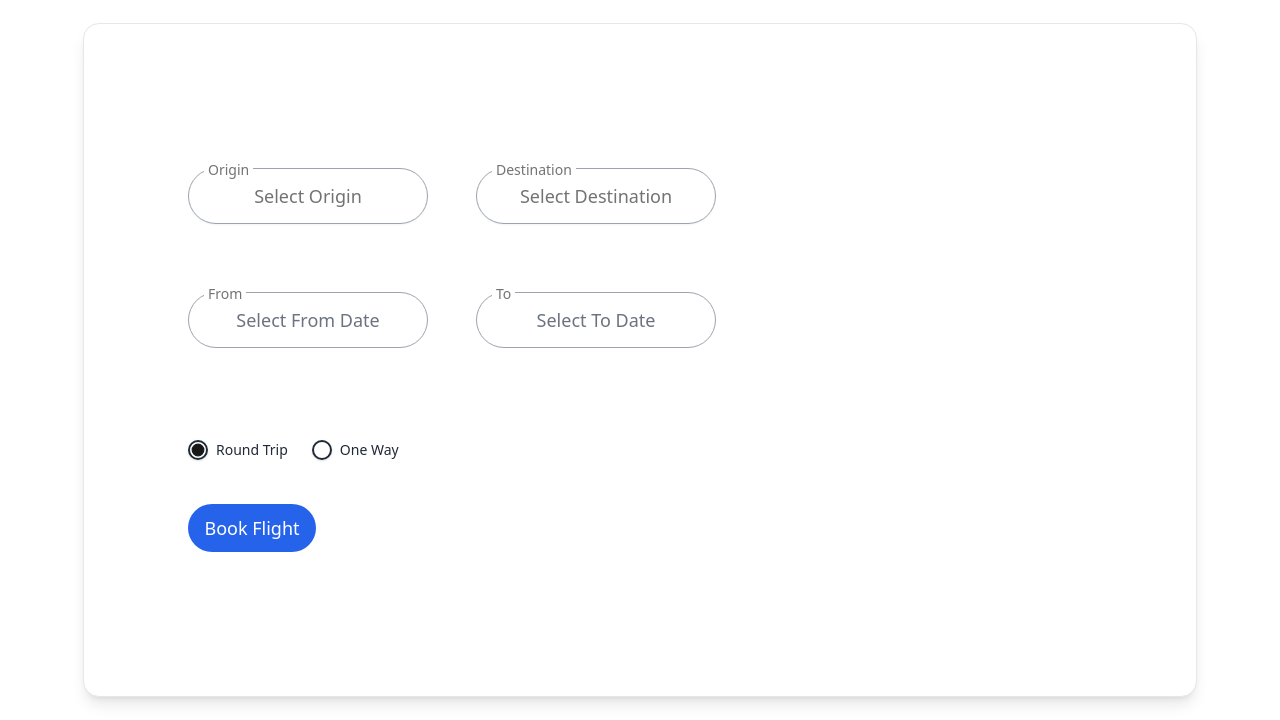
Scenario: shows validation errors when submitting empty form
Click the button "Book Flight". click: (252,528)
box: top-left (188, 504), bottom-right (316, 552)
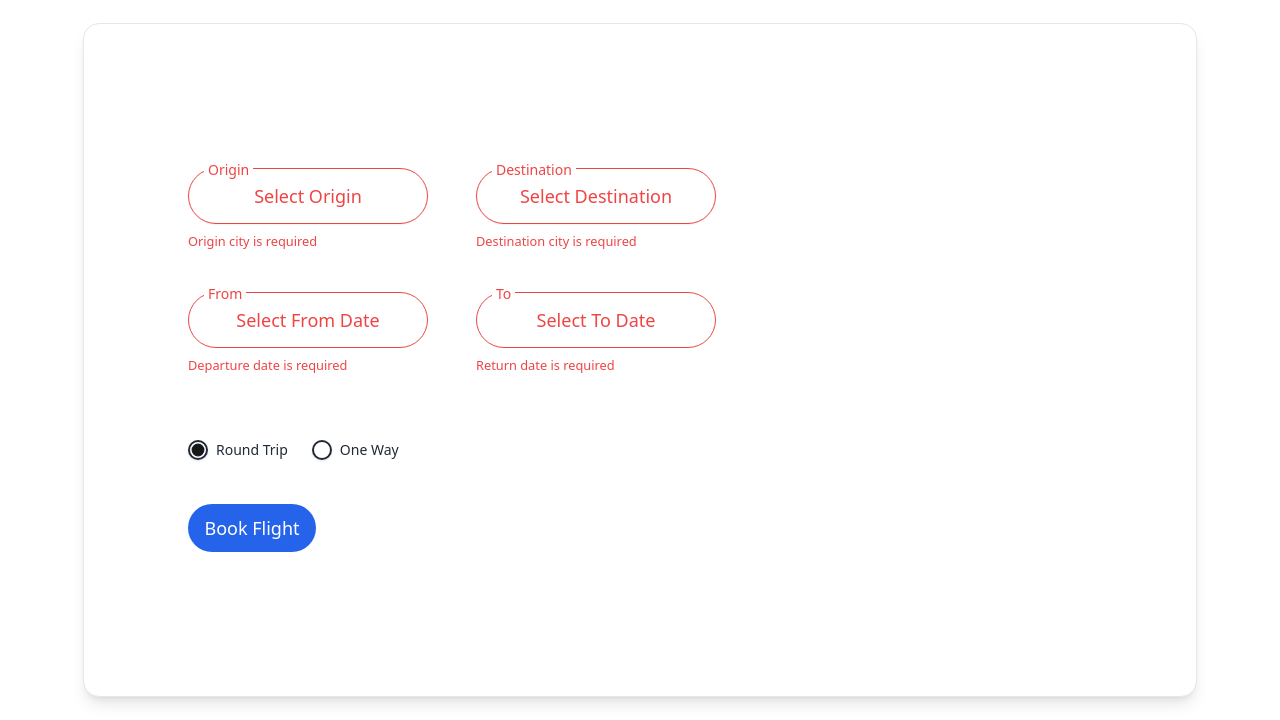
expect the text "Origin city is required" is shown: met, box top-left (188, 232), bottom-right (317, 250)
expect the text "Destination city is required" is shown: met, box top-left (476, 232), bottom-right (637, 250)
expect the text "Departure date is required" is shown: met, box top-left (188, 356), bottom-right (347, 374)
